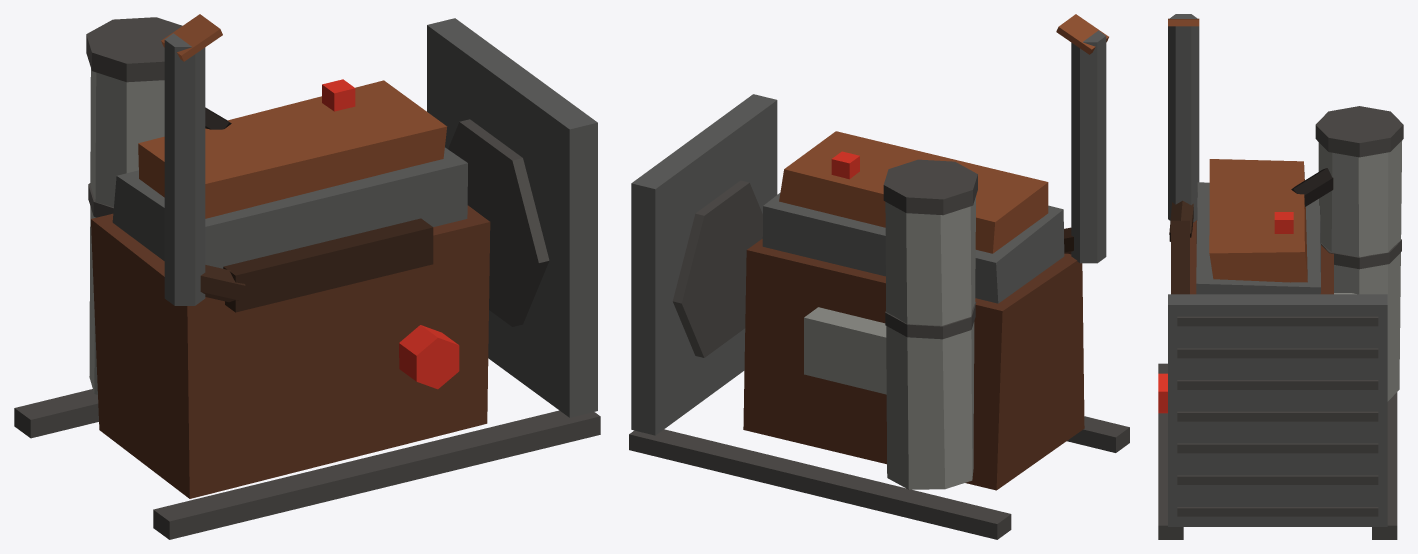
Rendered from eng_workhorse_diesel.glb.
3 views of the same model, side by side, from view 1: azimuth 30°, elevation 25°; view 2: azimuth 150°, elevation 25°; view 3: azimuth 270°, elevation 25° (orthographic). The views are drawn at different scales.
Visible parts, largest first — view 1: eng_workhorse_diesel; view 2: eng_workhorse_diesel; view 3: eng_workhorse_diesel.
Part boxes in pixels (left/top/right/bottom): eng_workhorse_diesel: left=14, top=14, right=600, bottom=539; eng_workhorse_diesel: left=629, top=14, right=1129, bottom=539; eng_workhorse_diesel: left=1158, top=14, right=1403, bottom=539.
Bounding box in the file's own units: 1.24 × 1.33 × 0.78.
